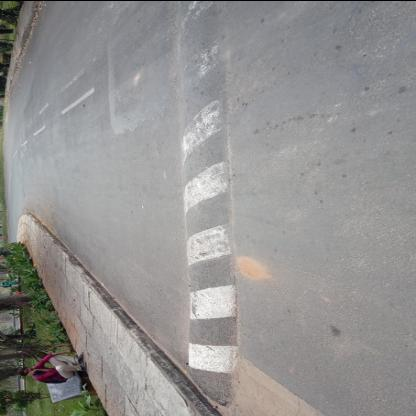speed-bumps: (168, 1, 249, 412)
